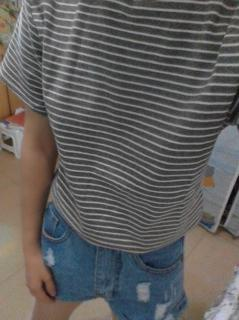short sleeve top: (0, 0, 239, 253)
shorts: (34, 197, 190, 319)
